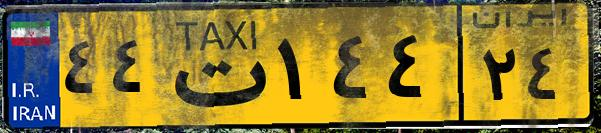1: (270, 28, 330, 110)
2: (475, 38, 525, 113)
4: (385, 28, 445, 110), (330, 28, 385, 110), (57, 26, 110, 100), (525, 38, 570, 115), (110, 28, 158, 98)
ت: (158, 12, 270, 120)
